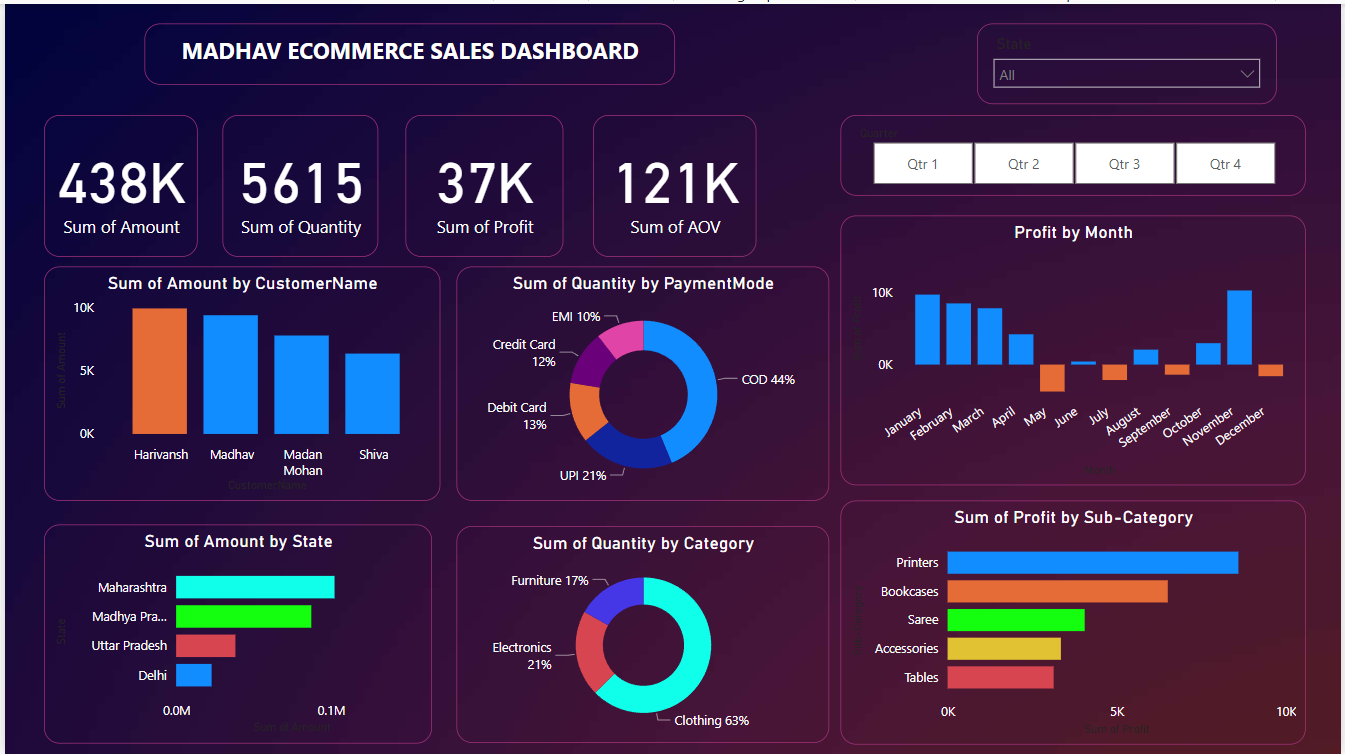

Layout of this report page (visuals, bound fields, positions):
{"tool":"powerbi","page":{"name":"Page 1","canvas":[1280,720],"ordinal":0},"visuals":[{"type":"textbox","box":[134.2,18.9,508.4,58.6],"z":0},{"type":"columnChart","title":"Profit by Month","fields":{"Category":["Orders.Order Date.Variation.Date Hierarchy.Month"],"Y":["Details.Profit"]},"box":[801.3,202.2,446,258.9],"z":1000},{"type":"barChart","fields":{"Category":["Details.Sub-Category"],"Y":["Details.Profit"]},"box":[801.3,476.2,446,234.3],"z":2000},{"type":"donutChart","fields":{"Category":["Details.Category"],"Y":["Details.Quantity"]},"box":[432.8,500.8,357.2,207.9],"z":3000},{"type":"donutChart","fields":{"Y":["Details.Quantity"],"Category":["Details.PaymentMode"]},"box":[432.8,251.3,357.2,224.9],"z":4000},{"type":"card","fields":{"Values":["Details.Amount"]},"box":[37.8,105.8,147.4,136.1],"z":5000},{"type":"card","fields":{"Values":["Details.Quantity"]},"box":[207.9,105.8,149.3,136.1],"z":6000},{"type":"card","fields":{"Values":["Details.Profit"]},"box":[383.6,105.8,151.2,136.1],"z":7000},{"type":"card","fields":{"Values":["Details.AOV"]},"box":[563.2,105.8,156.9,136.1],"z":8000},{"type":"barChart","fields":{"Category":["Orders.State"],"Y":["Details.Amount"]},"box":[37.8,498.9,372.3,209.8],"z":9000},{"type":"columnChart","fields":{"Category":["Orders.CustomerName"],"Y":["Details.Amount"]},"box":[37.8,251.3,379.8,224.9],"z":10000},{"type":"slicer","fields":{"Values":["Orders.Order Date.Variation.Date Hierarchy.Quarter"]},"box":[801.3,105.8,446,77.5],"z":11000},{"type":"slicer","fields":{"Values":["Orders.State"]},"box":[931.7,18.9,287.2,77.5],"z":12000}]}

Visuals, with their boxes in screenshot pixels (x1, y1, x2, y2), scaled from the page's 1280x720 canvas onto the 1345x754 screenshot:
textbox: bbox=[141, 20, 675, 81]
"Profit by Month" columnChart: bbox=[842, 212, 1311, 483]
barChart - Details.Sub-Category x Details.Profit: bbox=[842, 499, 1311, 744]
donutChart - Details.Category x Details.Quantity: bbox=[455, 524, 830, 742]
donutChart - Details.Quantity x Details.PaymentMode: bbox=[455, 263, 830, 499]
card - Details.Amount: bbox=[40, 111, 195, 253]
card - Details.Quantity: bbox=[218, 111, 375, 253]
card - Details.Profit: bbox=[403, 111, 562, 253]
card - Details.AOV: bbox=[592, 111, 757, 253]
barChart - Orders.State x Details.Amount: bbox=[40, 522, 431, 742]
columnChart - Orders.CustomerName x Details.Amount: bbox=[40, 263, 439, 499]
slicer - Orders.Order Date.Variation.Date Hierarchy.Quarter: bbox=[842, 111, 1311, 192]
slicer - Orders.State: bbox=[979, 20, 1281, 101]
